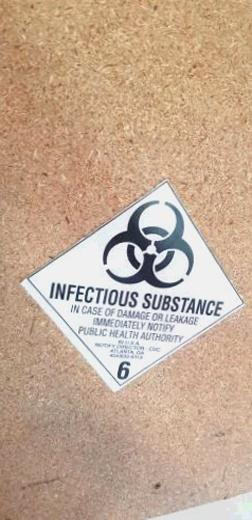infectious-substance: (19, 177, 246, 399)
